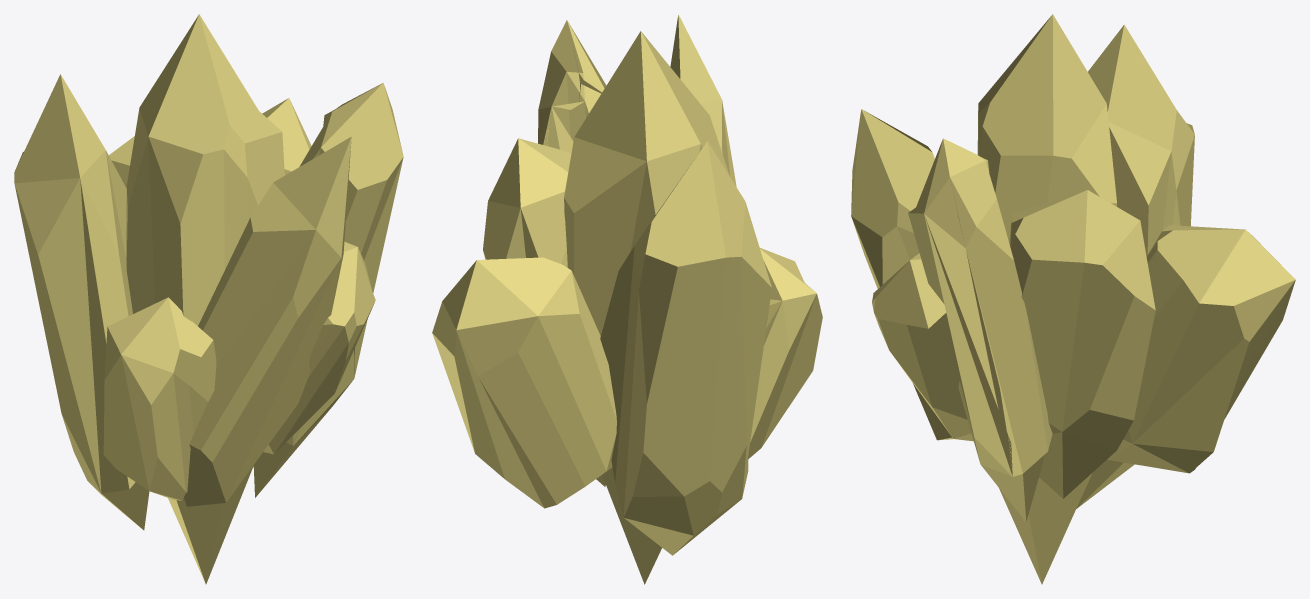
File: cristal.fbx
3 renders of one model, left to right at view 1: azimuth 30°, elevation 25°; view 2: azimuth 150°, elevation 25°; view 3: azimuth 270°, elevation 25°, orthographic. The views are drawn at different scales.
Parts seen in each view (by area): view 1: Cube; view 2: Cube; view 3: Cube.
Part boxes in pixels (left/top/right/bottom): Cube: left=14, top=14, right=403, bottom=584; Cube: left=432, top=14, right=822, bottom=584; Cube: left=851, top=14, right=1295, bottom=584.
Size of the model in its own units: 198 by 366 by 259.
